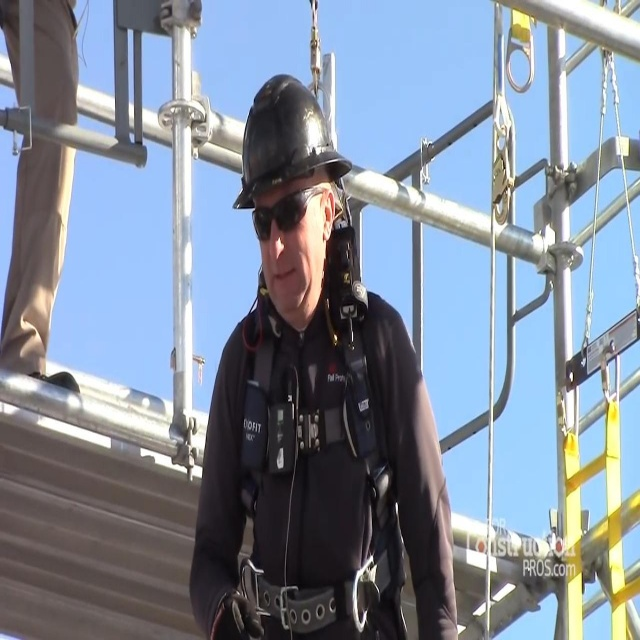Arnes_seguridad: (227, 177, 402, 640)
